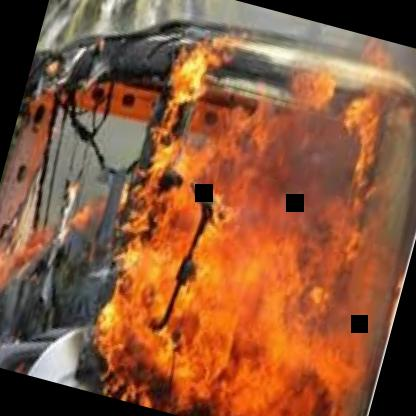fire: (86, 56, 416, 416)
